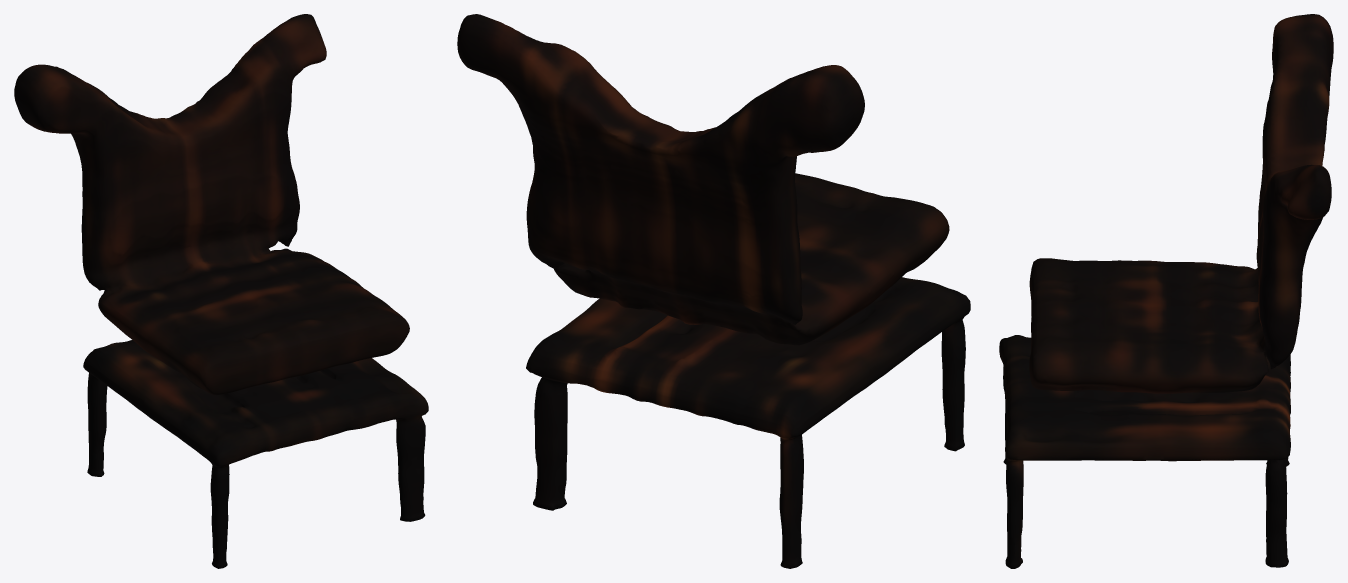
The model's file is A brown wooden chair with a black cushion, four le.glb.
The picture shows the model from 3 angles, left to right: view 1: azimuth 30°, elevation 25°; view 2: azimuth 150°, elevation 25°; view 3: azimuth 270°, elevation 25°; orthographic projection. The views are drawn at different scales.
Parts seen in each view (by area): view 1: A brown wooden chair with a black cushion, four le; view 2: A brown wooden chair with a black cushion, four le; view 3: A brown wooden chair with a black cushion, four le.
Part boxes in pixels (left/top/right/bottom): A brown wooden chair with a black cushion, four le: left=14, top=14, right=428, bottom=568; A brown wooden chair with a black cushion, four le: left=457, top=14, right=970, bottom=568; A brown wooden chair with a black cushion, four le: left=999, top=14, right=1333, bottom=568.
Size of the model in its own units: 1.54 by 1.97 by 1.4.
